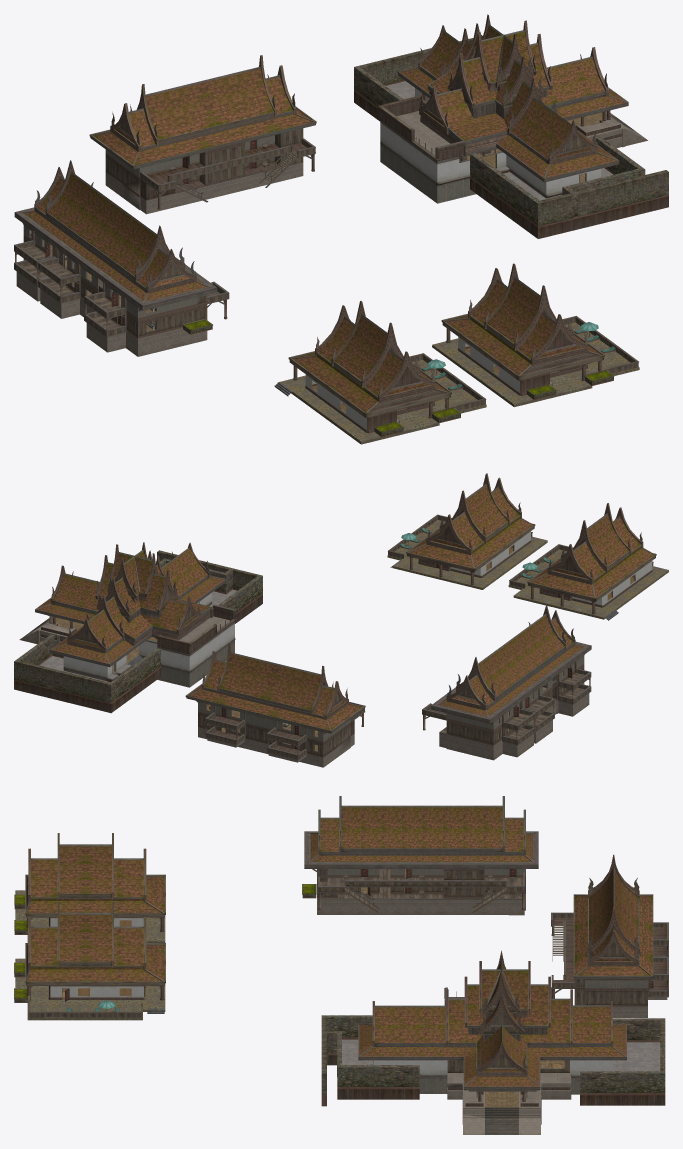
File: Builds.fbx
3 renders of one model, top to bottom at view 1: azimuth 30°, elevation 25°; view 2: azimuth 150°, elevation 25°; view 3: azimuth 270°, elevation 25°, orthographic. The views are drawn at different scales.
Parts seen in each view (by area): view 1: Build_01, Build_04, Build_05, Build_03, Build_02; view 2: Build_01, Build_04, Build_05, Build_03, Build_02; view 3: Build_01, Build_04, Build_02, Build_05, Build_03.
Boxes of the visible parts, bbox=[...] form: Build_01: bbox=[354, 14, 668, 238]; Build_04: bbox=[14, 160, 229, 356]; Build_05: bbox=[89, 55, 316, 214]; Build_03: bbox=[274, 301, 486, 444]; Build_02: bbox=[432, 263, 639, 407]; Build_01: bbox=[14, 542, 262, 713]; Build_04: bbox=[422, 605, 591, 760]; Build_05: bbox=[185, 643, 365, 767]; Build_03: bbox=[508, 503, 668, 620]; Build_02: bbox=[387, 473, 547, 589]; Build_01: bbox=[321, 950, 665, 1134]; Build_04: bbox=[302, 796, 538, 915]; Build_02: bbox=[14, 901, 165, 1020]; Build_05: bbox=[551, 854, 668, 1017]; Build_03: bbox=[14, 833, 165, 942].
Size of the model in its own units: 12341 by 2772 by 12535.
